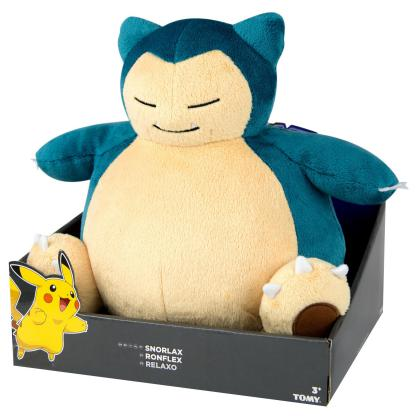Snorlax: (1, 34, 416, 406)
